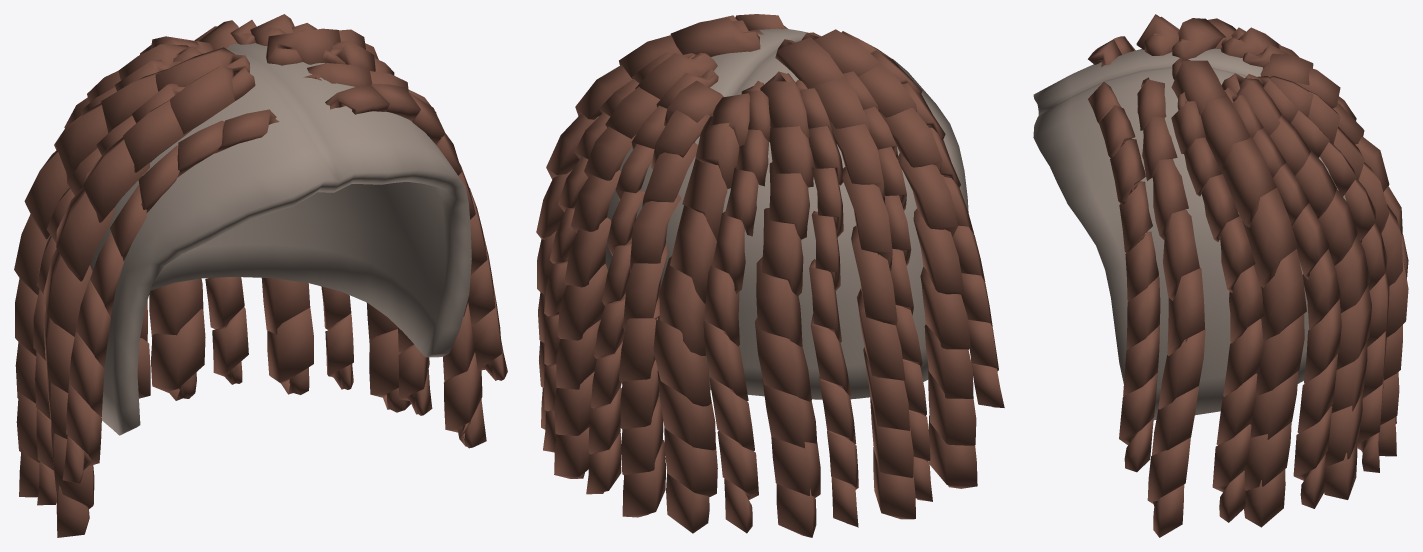
3 renders of one model, left to right at view 1: azimuth 30°, elevation 25°; view 2: azimuth 150°, elevation 25°; view 3: azimuth 270°, elevation 25°, orthographic. The views are drawn at different scales.
Parts seen in each view (by area): view 1: ringlet; view 2: ringlet; view 3: ringlet.
Part boxes in pixels (left/top/right/bottom): ringlet: left=14, top=14, right=507, bottom=537; ringlet: left=536, top=14, right=1004, bottom=537; ringlet: left=1033, top=14, right=1408, bottom=537.
Bounding box in the file's own units: 2.62 × 2.51 × 2.11.
